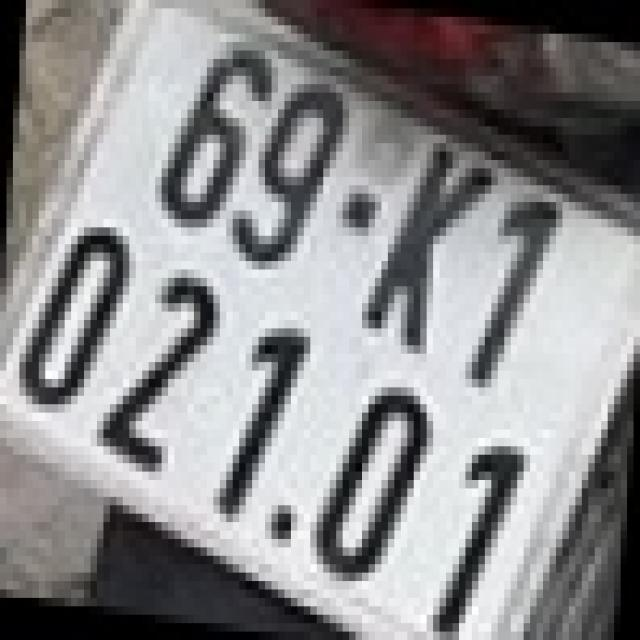0: (310, 379, 427, 589), (20, 215, 130, 400)
1: (466, 135, 562, 396), (214, 312, 310, 530), (433, 438, 530, 631)
2: (104, 261, 214, 480)
6: (162, 38, 265, 215)
9: (232, 68, 342, 270)
K: (362, 110, 478, 362)
